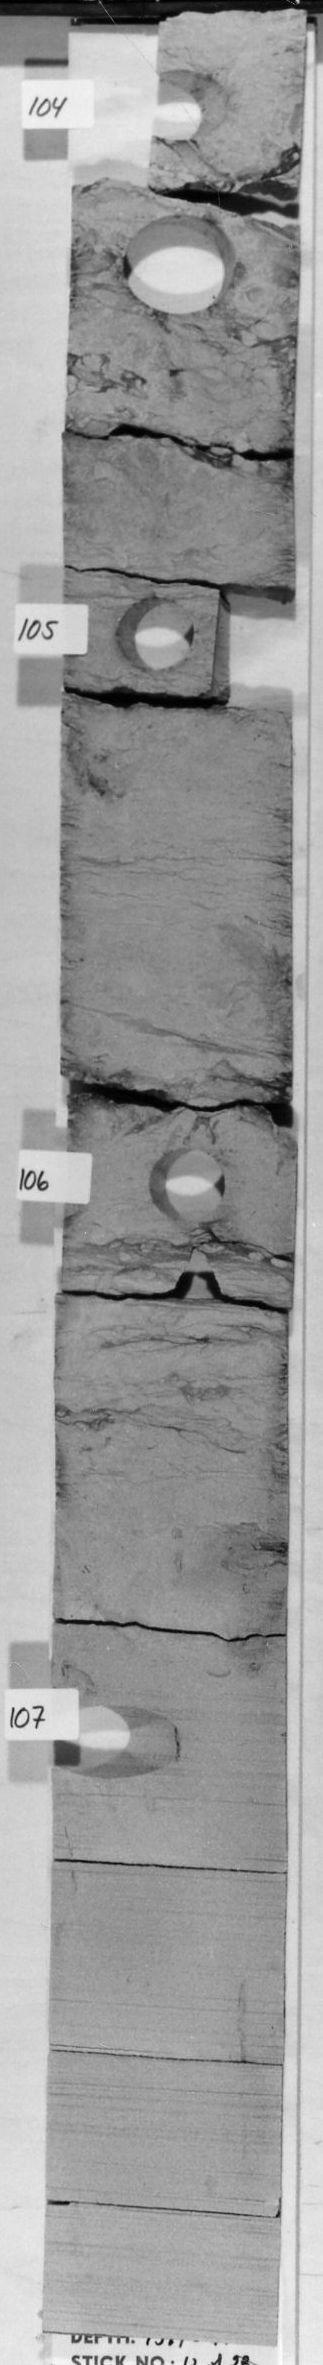hplug: (51, 1701, 192, 1787), (140, 1140, 237, 1229), (109, 591, 202, 682), (158, 65, 232, 143)
scal: (118, 211, 241, 318)
vplug: (82, 23, 161, 198), (207, 581, 290, 716), (158, 1243, 225, 1308)
